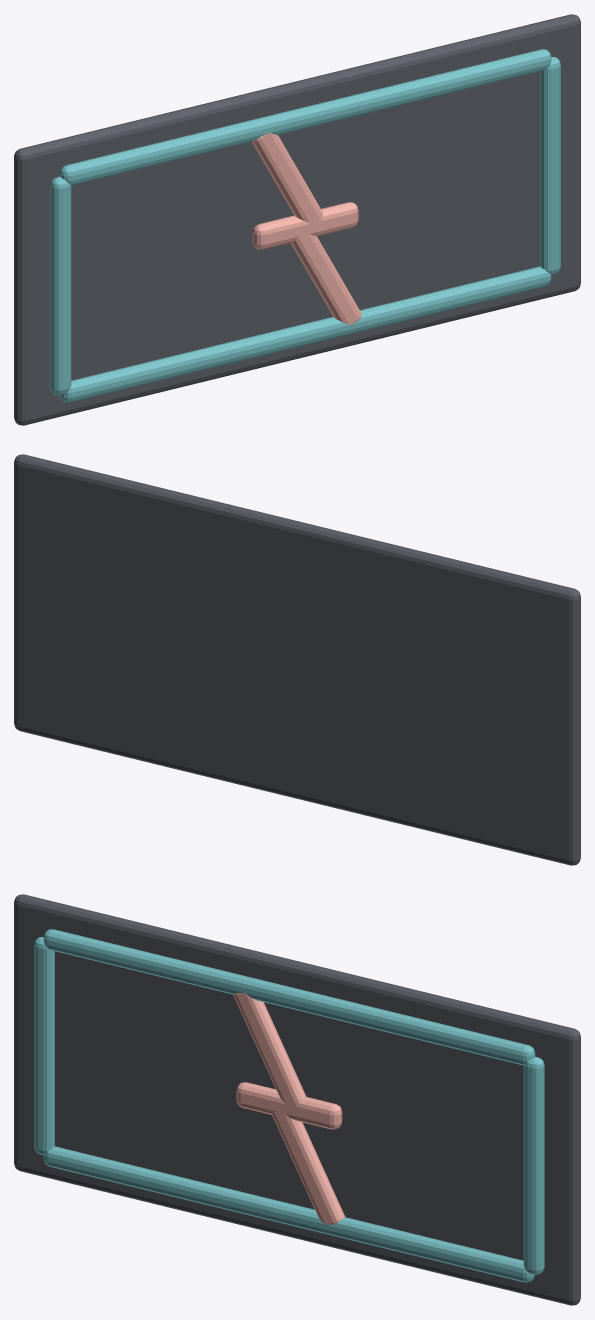
The model's file is NeonSign.fbx.
3 renders of one model, top to bottom at view 1: azimuth 30°, elevation 25°; view 2: azimuth 150°, elevation 25°; view 3: azimuth 330°, elevation 25°, orthographic.
Parts seen in each view (by area): view 1: NeonSign; view 2: NeonSign; view 3: NeonSign.
Part boxes in pixels (left/top/right/bottom): NeonSign: left=14, top=14, right=580, bottom=425; NeonSign: left=14, top=454, right=580, bottom=865; NeonSign: left=14, top=894, right=580, bottom=1305.
Bounding box in the file's own units: 1.2 × 0.56 × 0.06.
